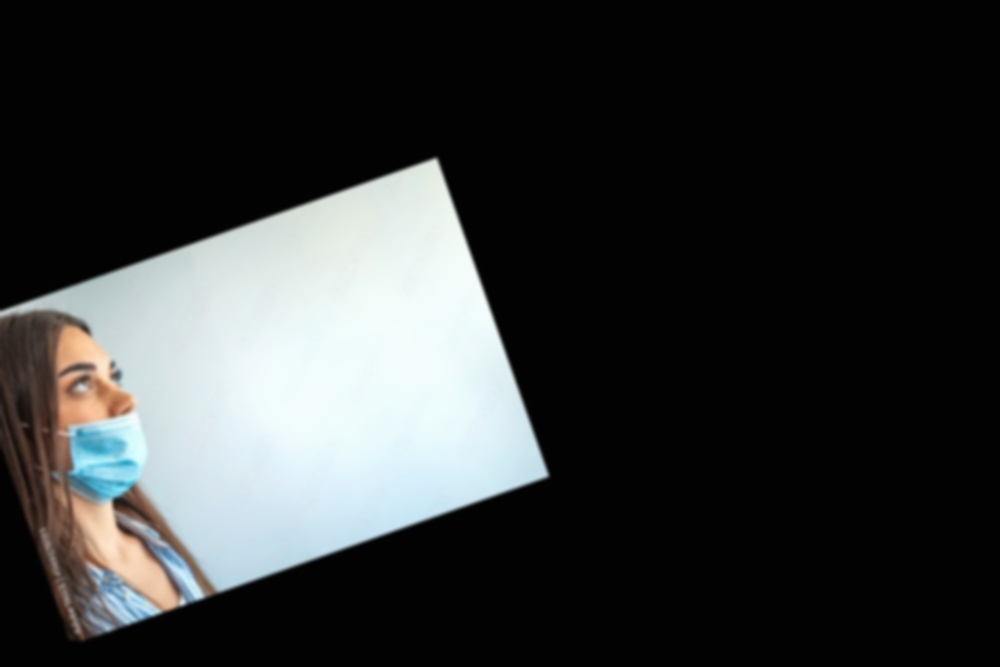mask_weared_incorrect: (9, 316, 152, 524)
